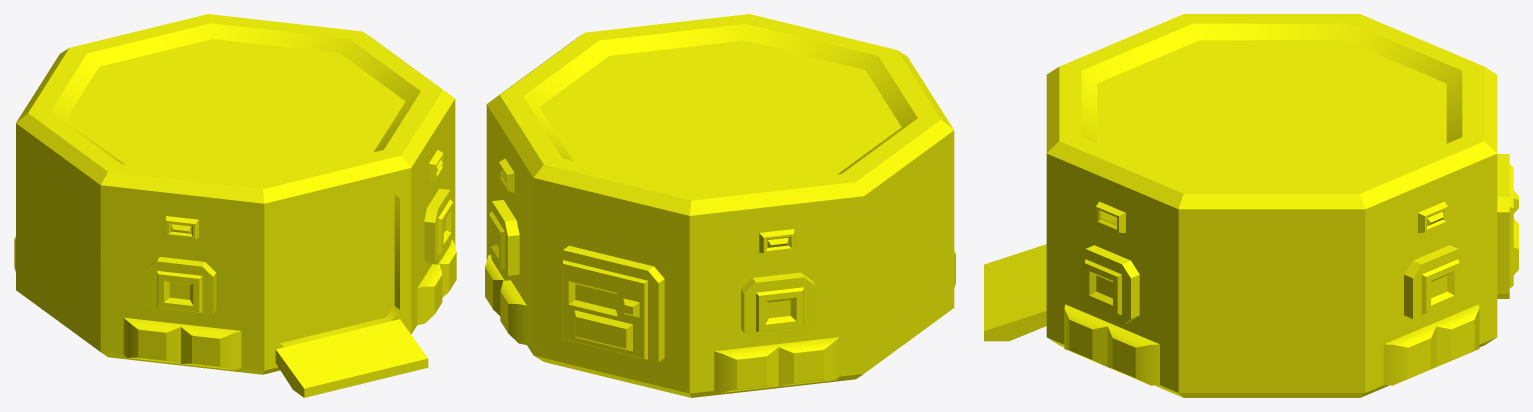
The model's file is kaykit-basemodule-garage.glb.
3 renders of one model, left to right at view 1: azimuth 30°, elevation 25°; view 2: azimuth 150°, elevation 25°; view 3: azimuth 270°, elevation 25°, orthographic. The views are drawn at different scales.
Parts seen in each view (by area): view 1: basemodule_garage; view 2: basemodule_garage; view 3: basemodule_garage.
Part boxes in pixels (<box>): basemodule_garage: <box>14,14,456,397</box>; basemodule_garage: <box>485,14,955,397</box>; basemodule_garage: <box>984,14,1518,397</box>.
Bounding box in the file's own units: 2 × 0.9999 × 2.37.
